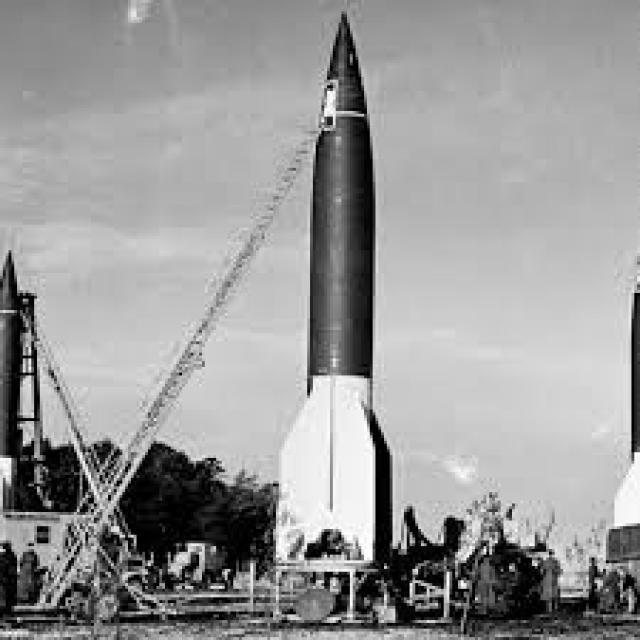missile: (270, 2, 406, 560), (300, 0, 378, 388)
